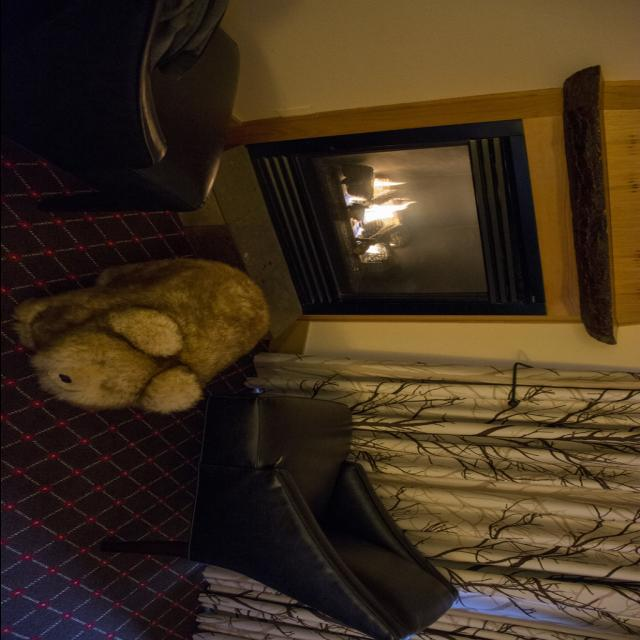Fire: (338, 167, 420, 266)
